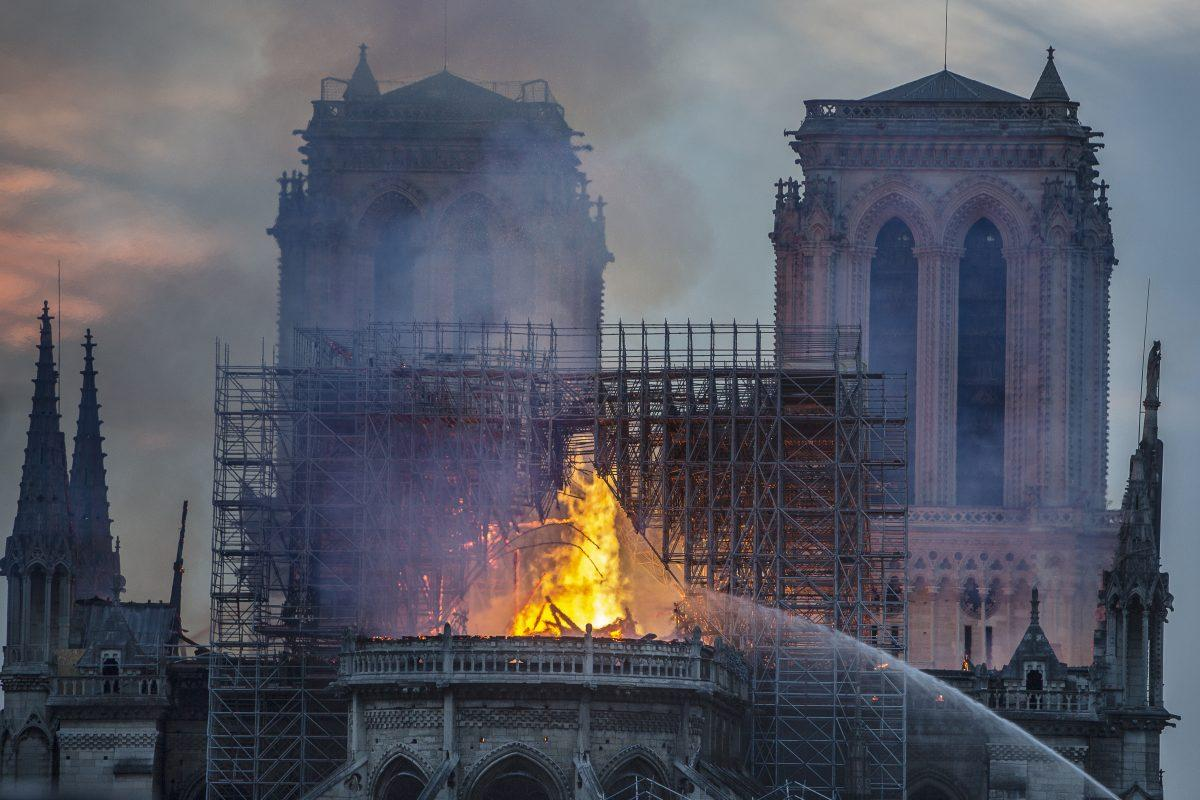Fire: (489, 467, 678, 658)
